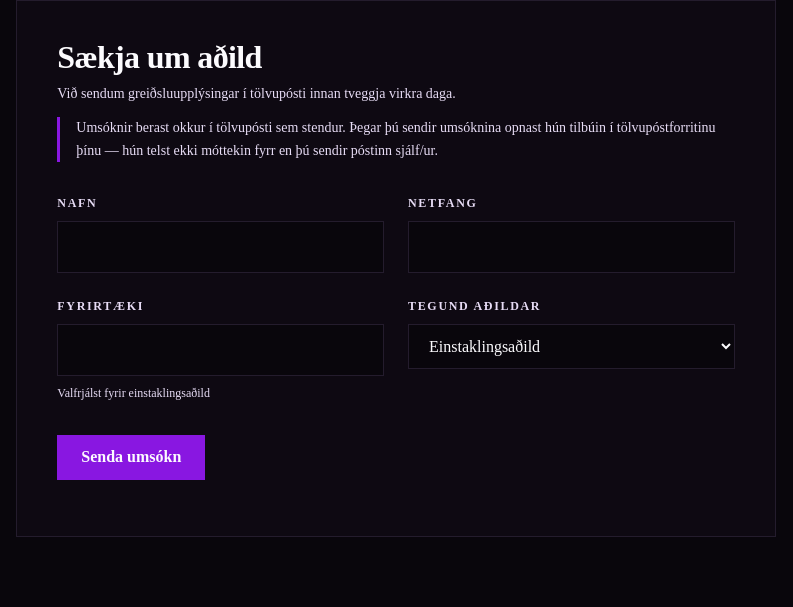
Scenario: MembershipForm (is) › reports what is missing and moves focus to the first offending field
The width and height of the screenshot is (793, 607).
Click the button "Senda umsókn". click: (131, 457)
box: [57, 435, 205, 480]
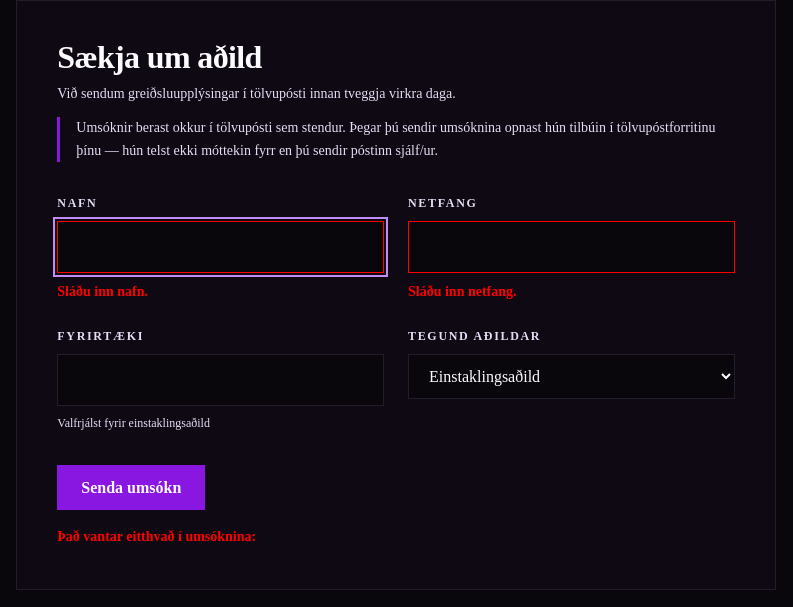
Now the text "Sláðu inn nafn." is shown, box [57, 284, 148, 299]
Now the text "Sláðu inn netfang." is shown, box [408, 284, 516, 299]
Now the text "Það vantar eitthvað í umsóknina:" is shown, box [57, 529, 256, 544]
